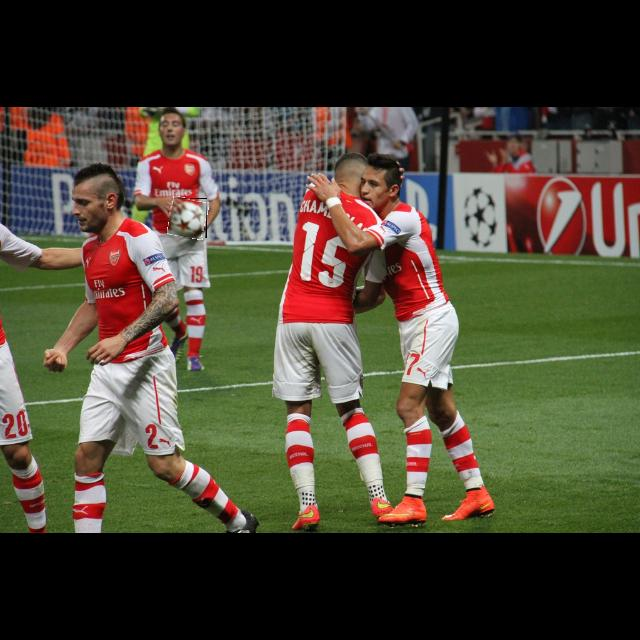Football: (169, 198, 207, 238)
